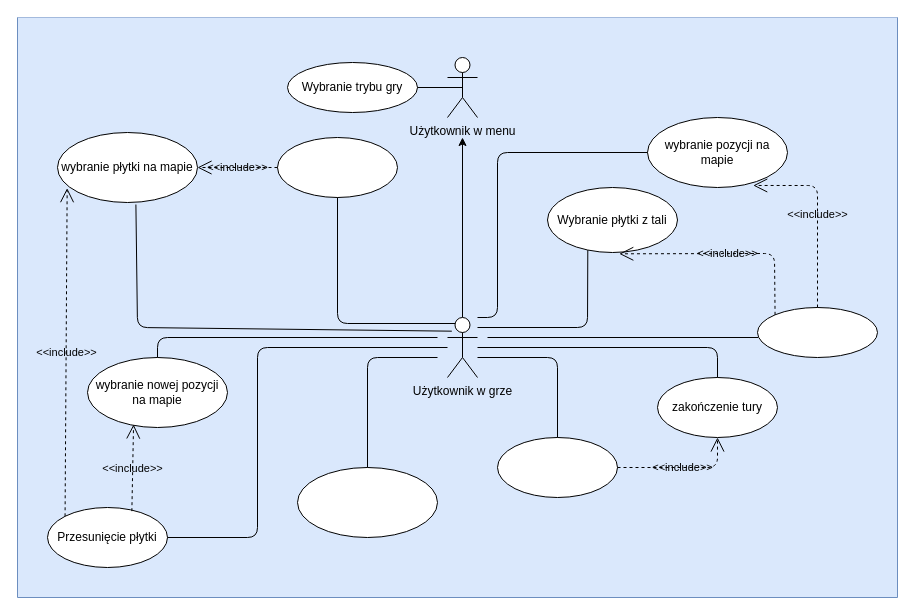
The diagram is 915 pixels wide and 615 high, and some of its shapes have lost their labels. Here are the shapes that lost their labels. From the top down, the centre of each, then its label:
At pixel 337 167: "Usunięcie płytki".
At pixel 817 332: "Postawienie płytki".
At pixel 557 467: "pobranie płytki".
At pixel 367 502: "Sortowanie tali".
